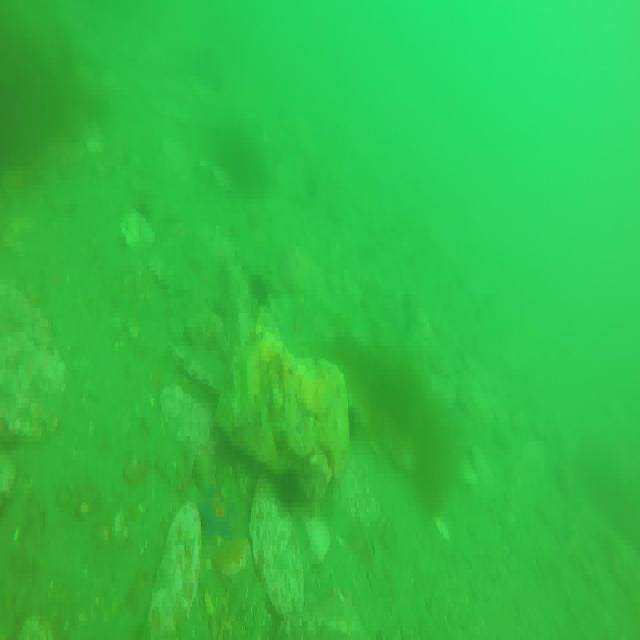echinus: (282, 466, 308, 518), (249, 268, 271, 310)
starfish: (200, 484, 233, 542)
